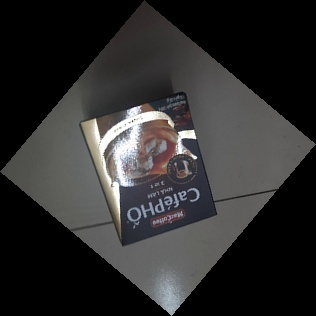CF pho: (77, 92, 218, 247)
